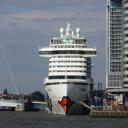cruises: (39, 23, 99, 118)
